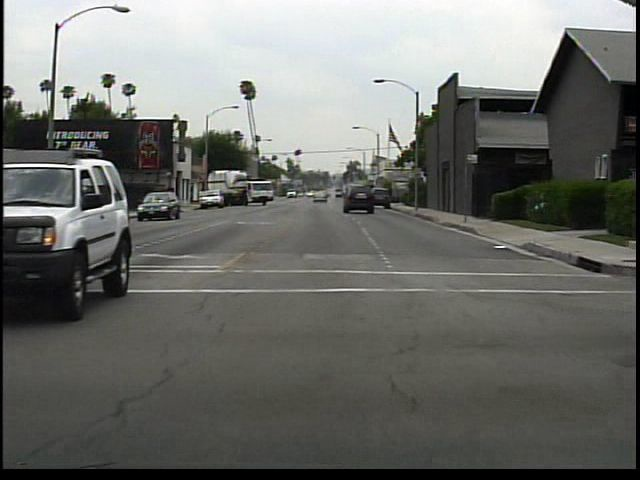person: (71, 181, 93, 222)
